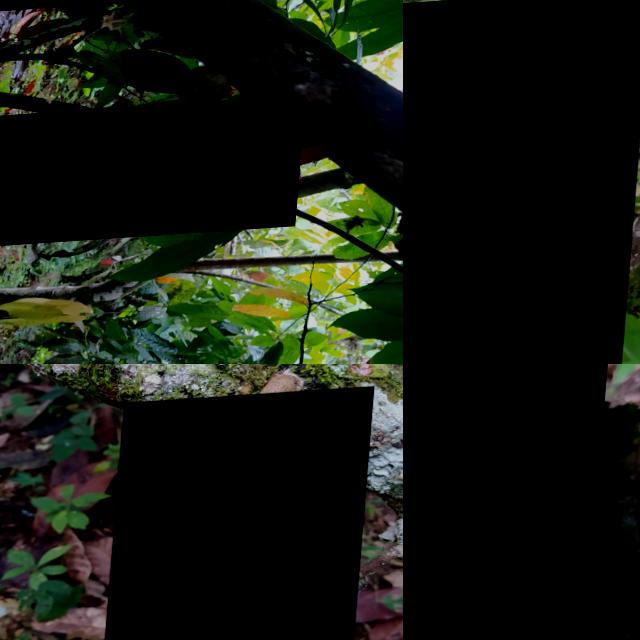Fitoftora: (0, 101, 310, 252)
Monilia: (403, 0, 640, 364), (104, 393, 378, 640), (403, 364, 609, 640)
Sana: (0, 0, 127, 13)
